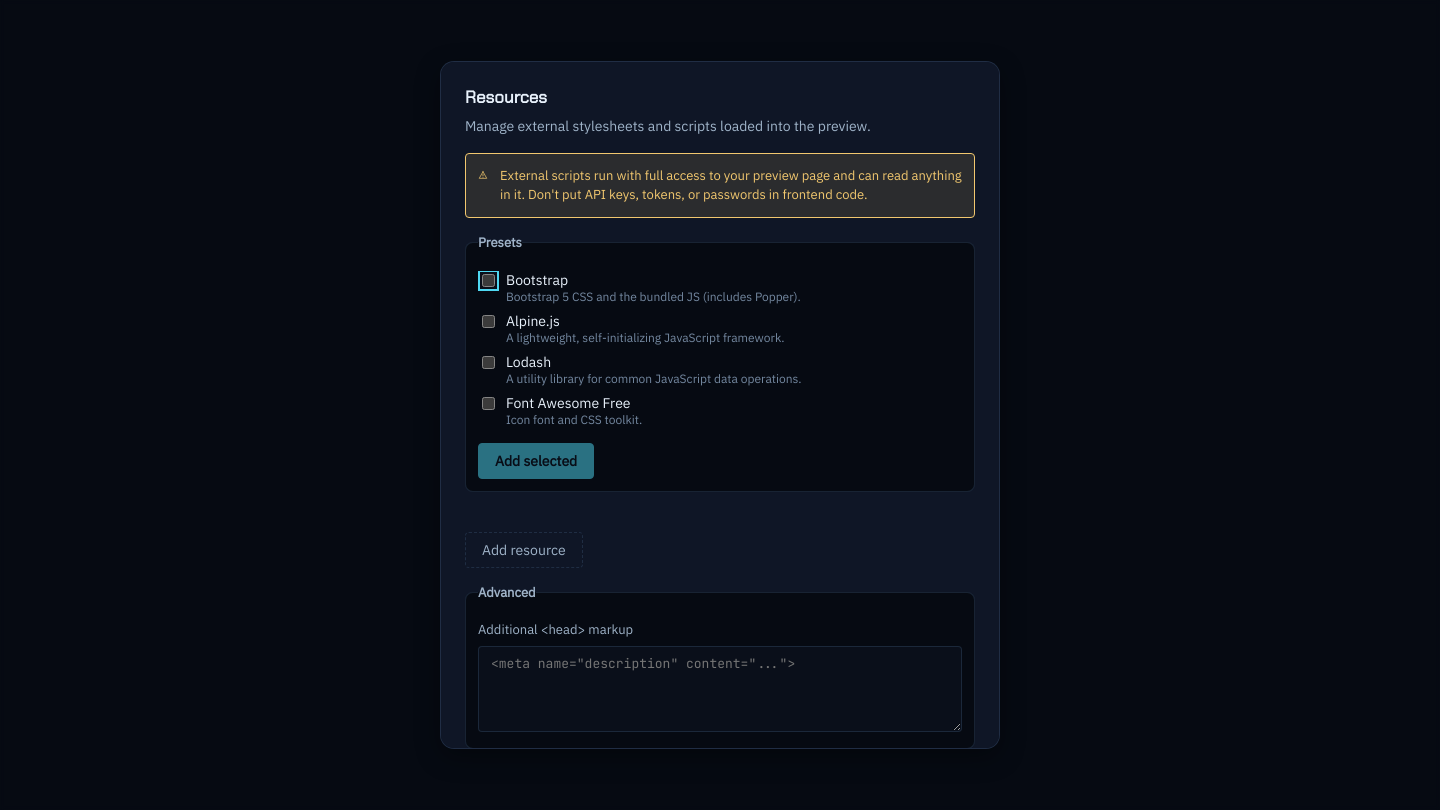
Test: ResourceManagerDialog › deletes a resource after confirmation
The width and height of the screenshot is (1440, 810).
Click the button "Add resource". click: point(524, 550)
box: left=465, top=532, right=583, bottom=568
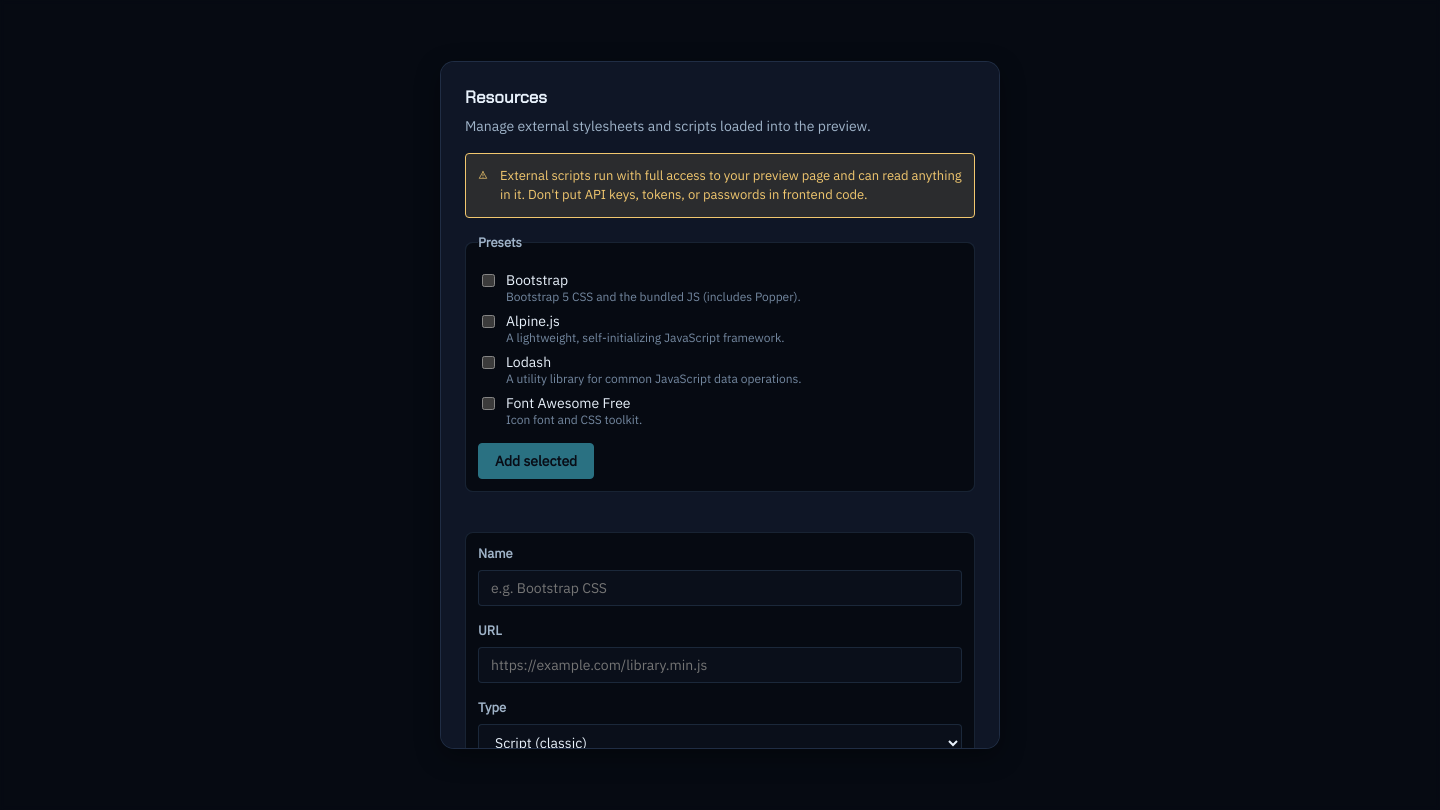
Type "My Script" into the field labelled "Name". click: point(720, 588)
box: left=478, top=570, right=962, bottom=606
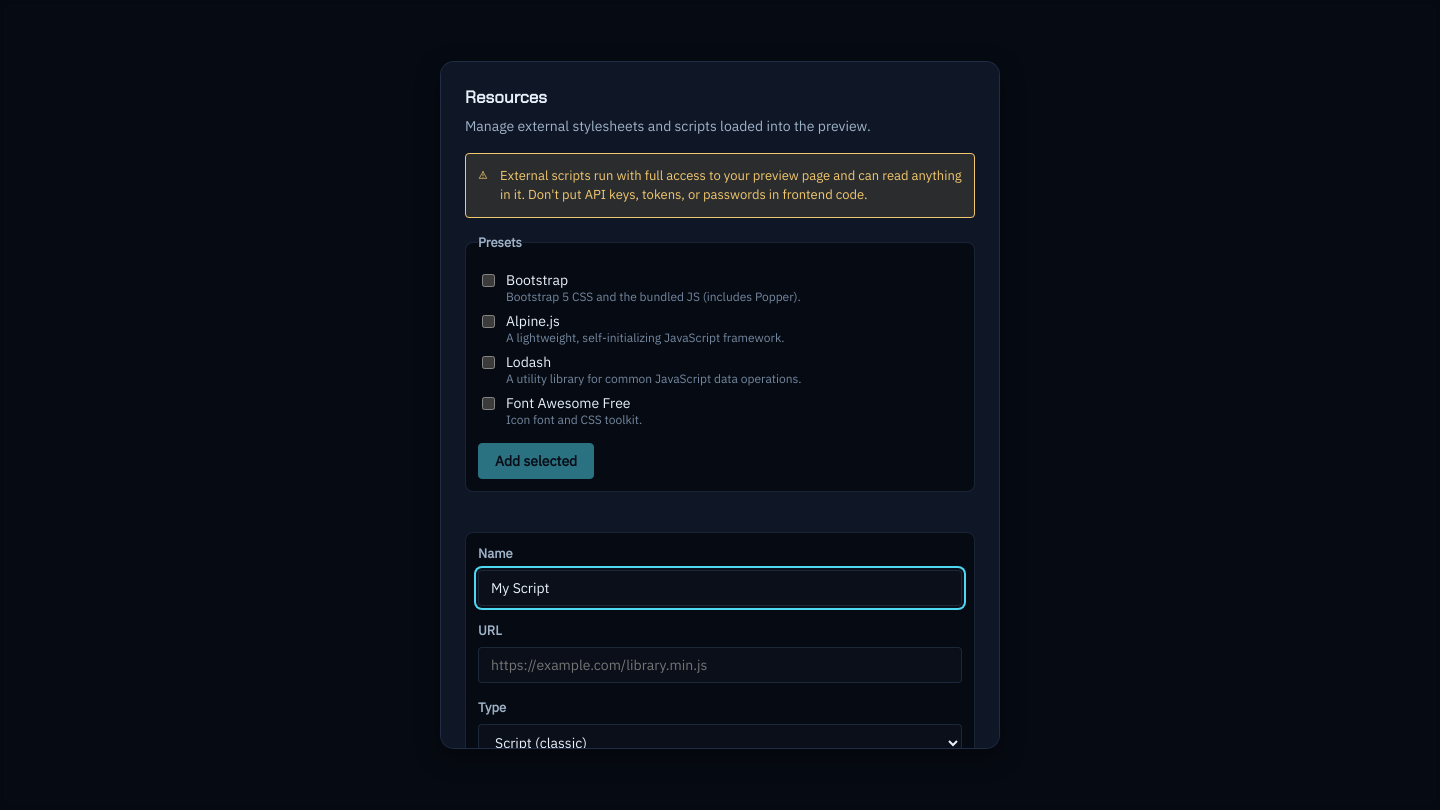
Type "https://example.com/script.js" into the field labelled "URL". click: point(720, 665)
box: left=478, top=647, right=962, bottom=683
(page scrolled)
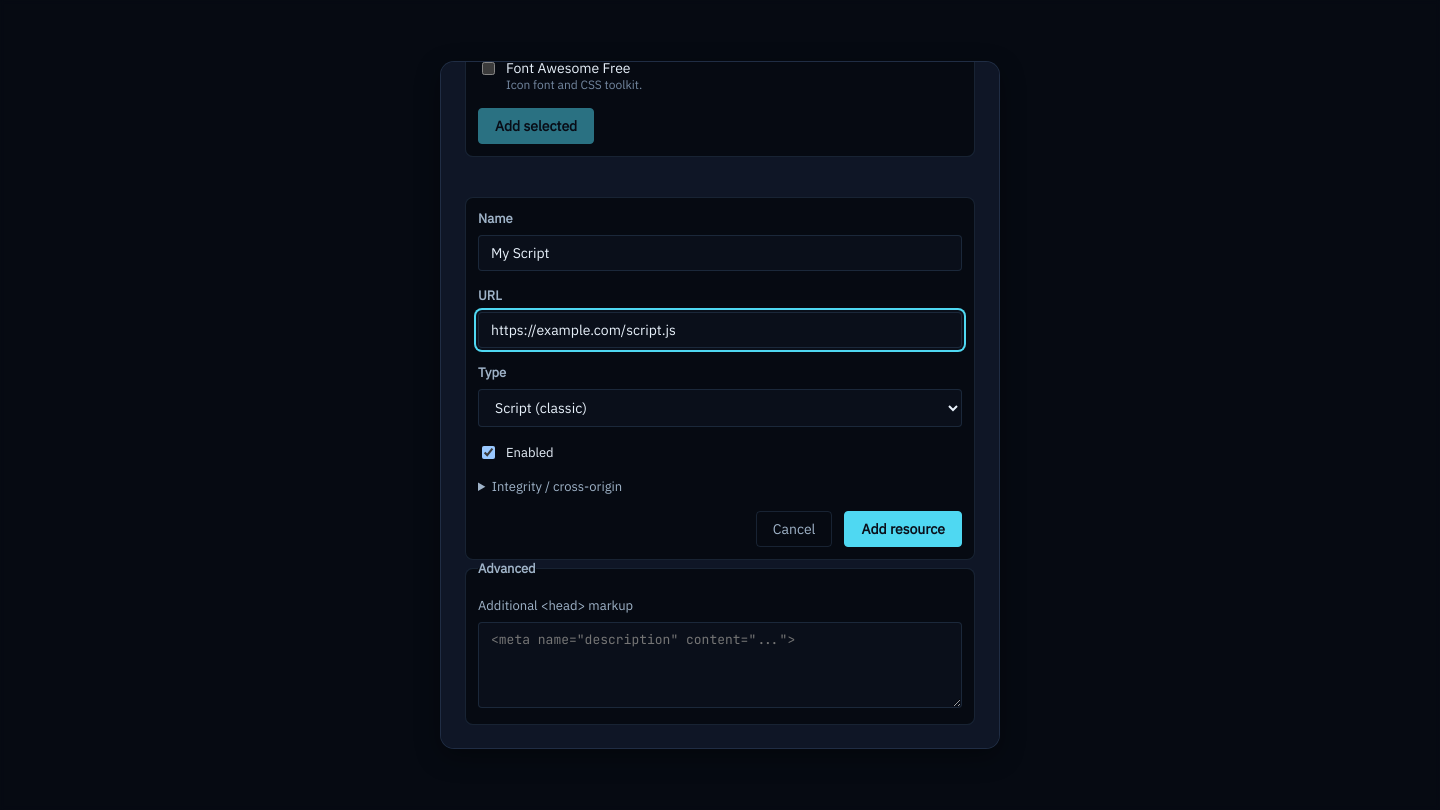
Click the button "Add resource". click: point(903, 529)
box: left=844, top=511, right=962, bottom=547
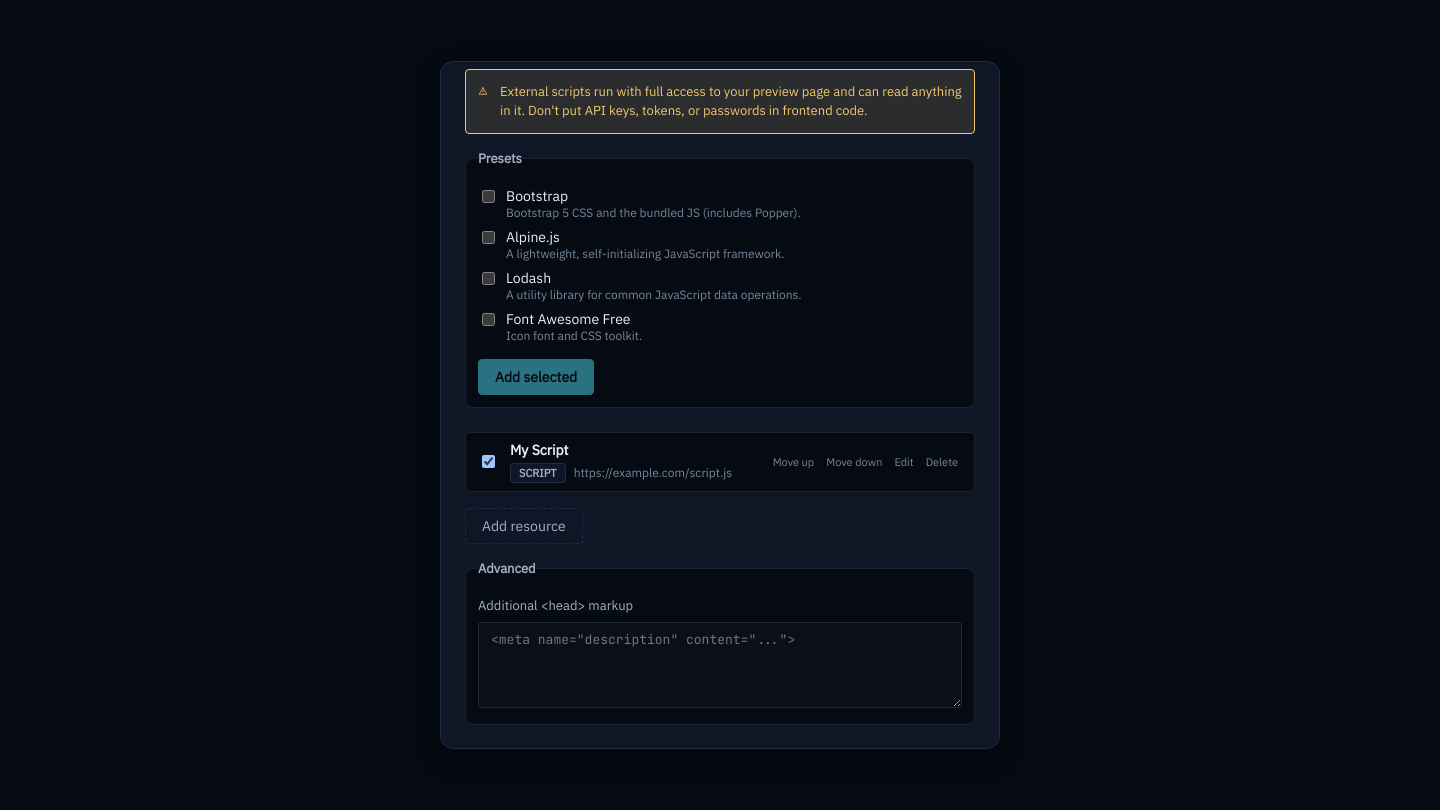
Click the button with aria-label "Delete My Script". click: point(942, 462)
box: left=922, top=451, right=962, bottom=473
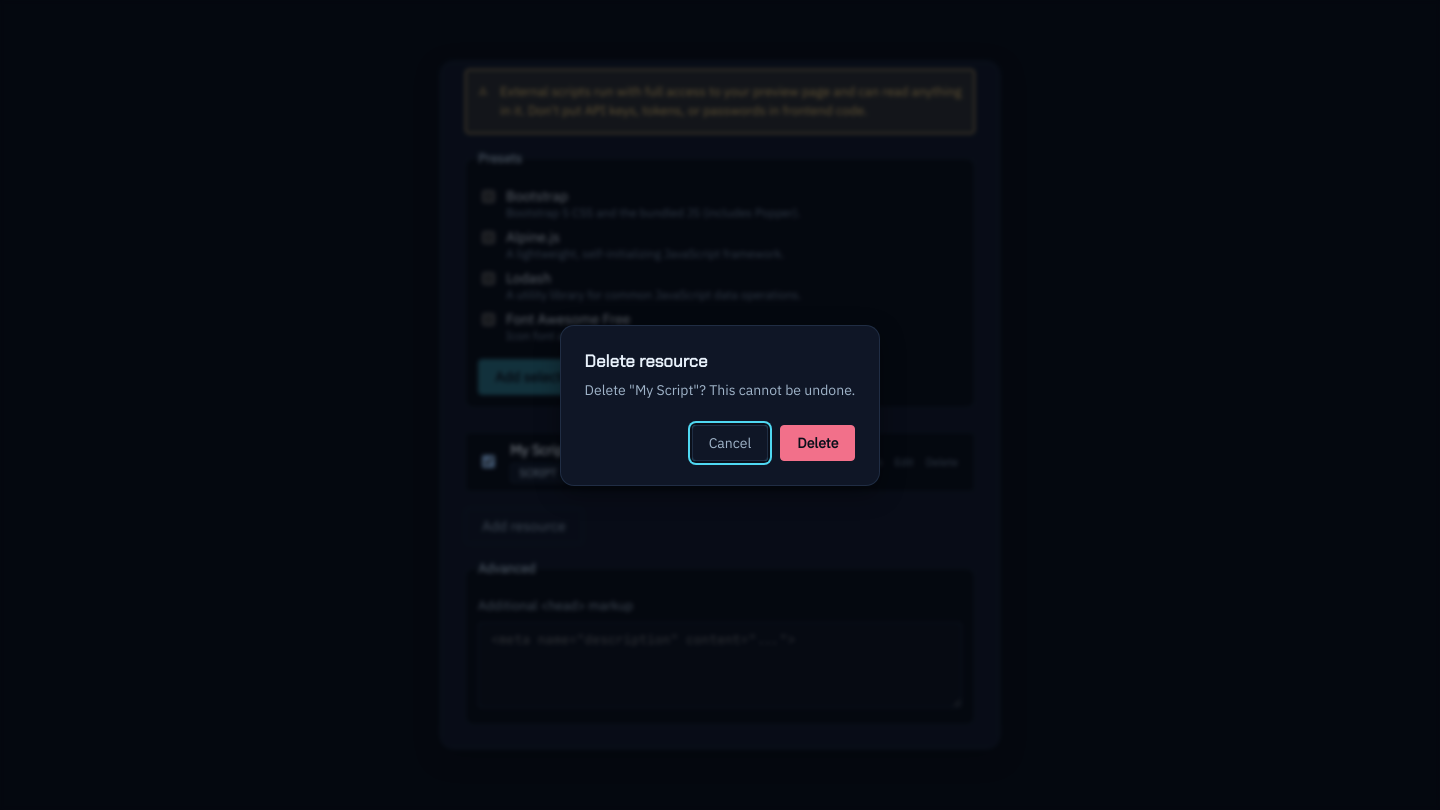
Expected: the text "Delete \"My Script\"? This cannot be undone." is shown, left=585, top=380, right=855, bottom=400
Click the button "Delete". click: point(818, 442)
box: left=780, top=424, right=855, bottom=460
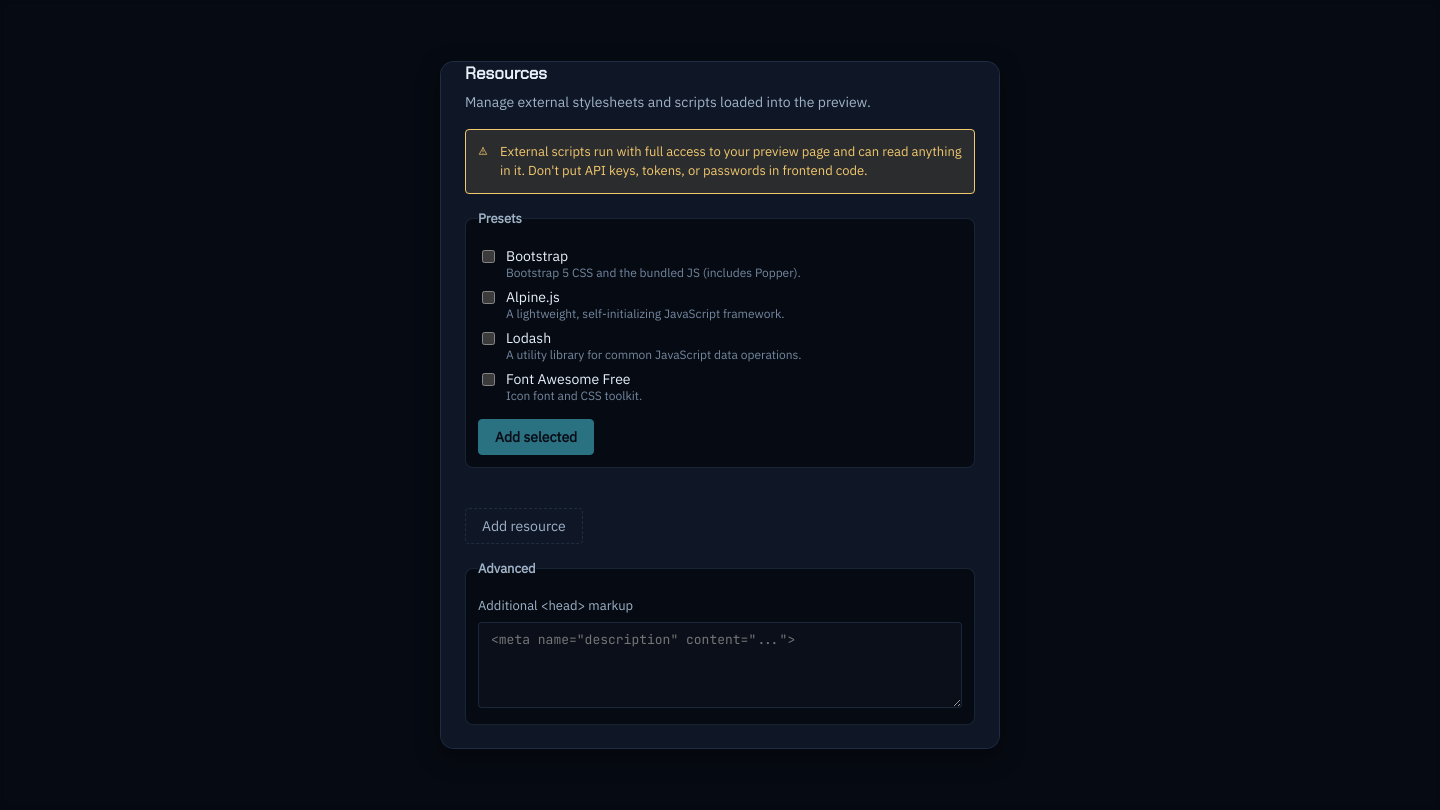
Expected: the text "My Script" is gone
